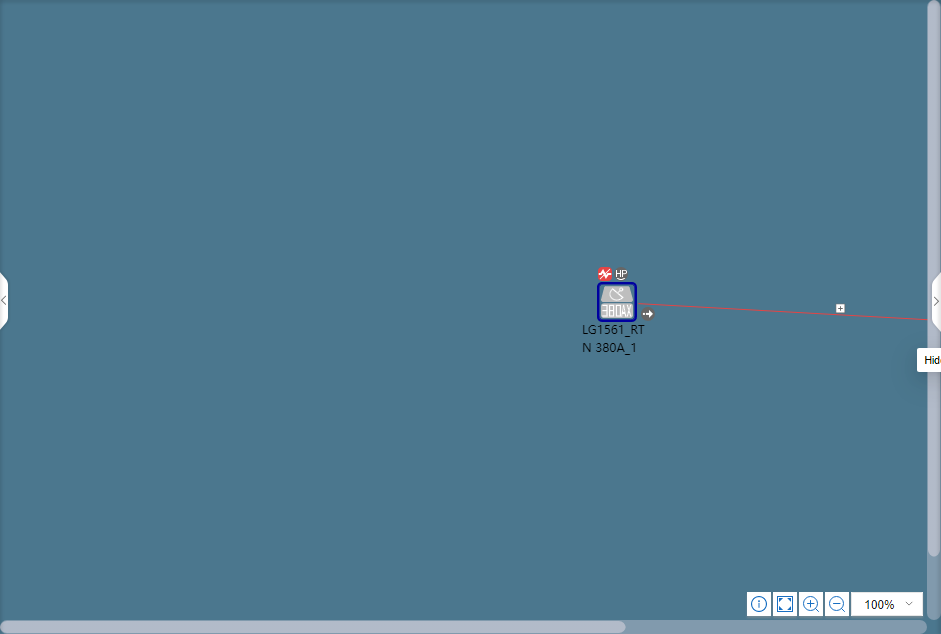Link_Red: (638, 301, 926, 322)
RTN_Gray: (599, 286, 634, 320)
